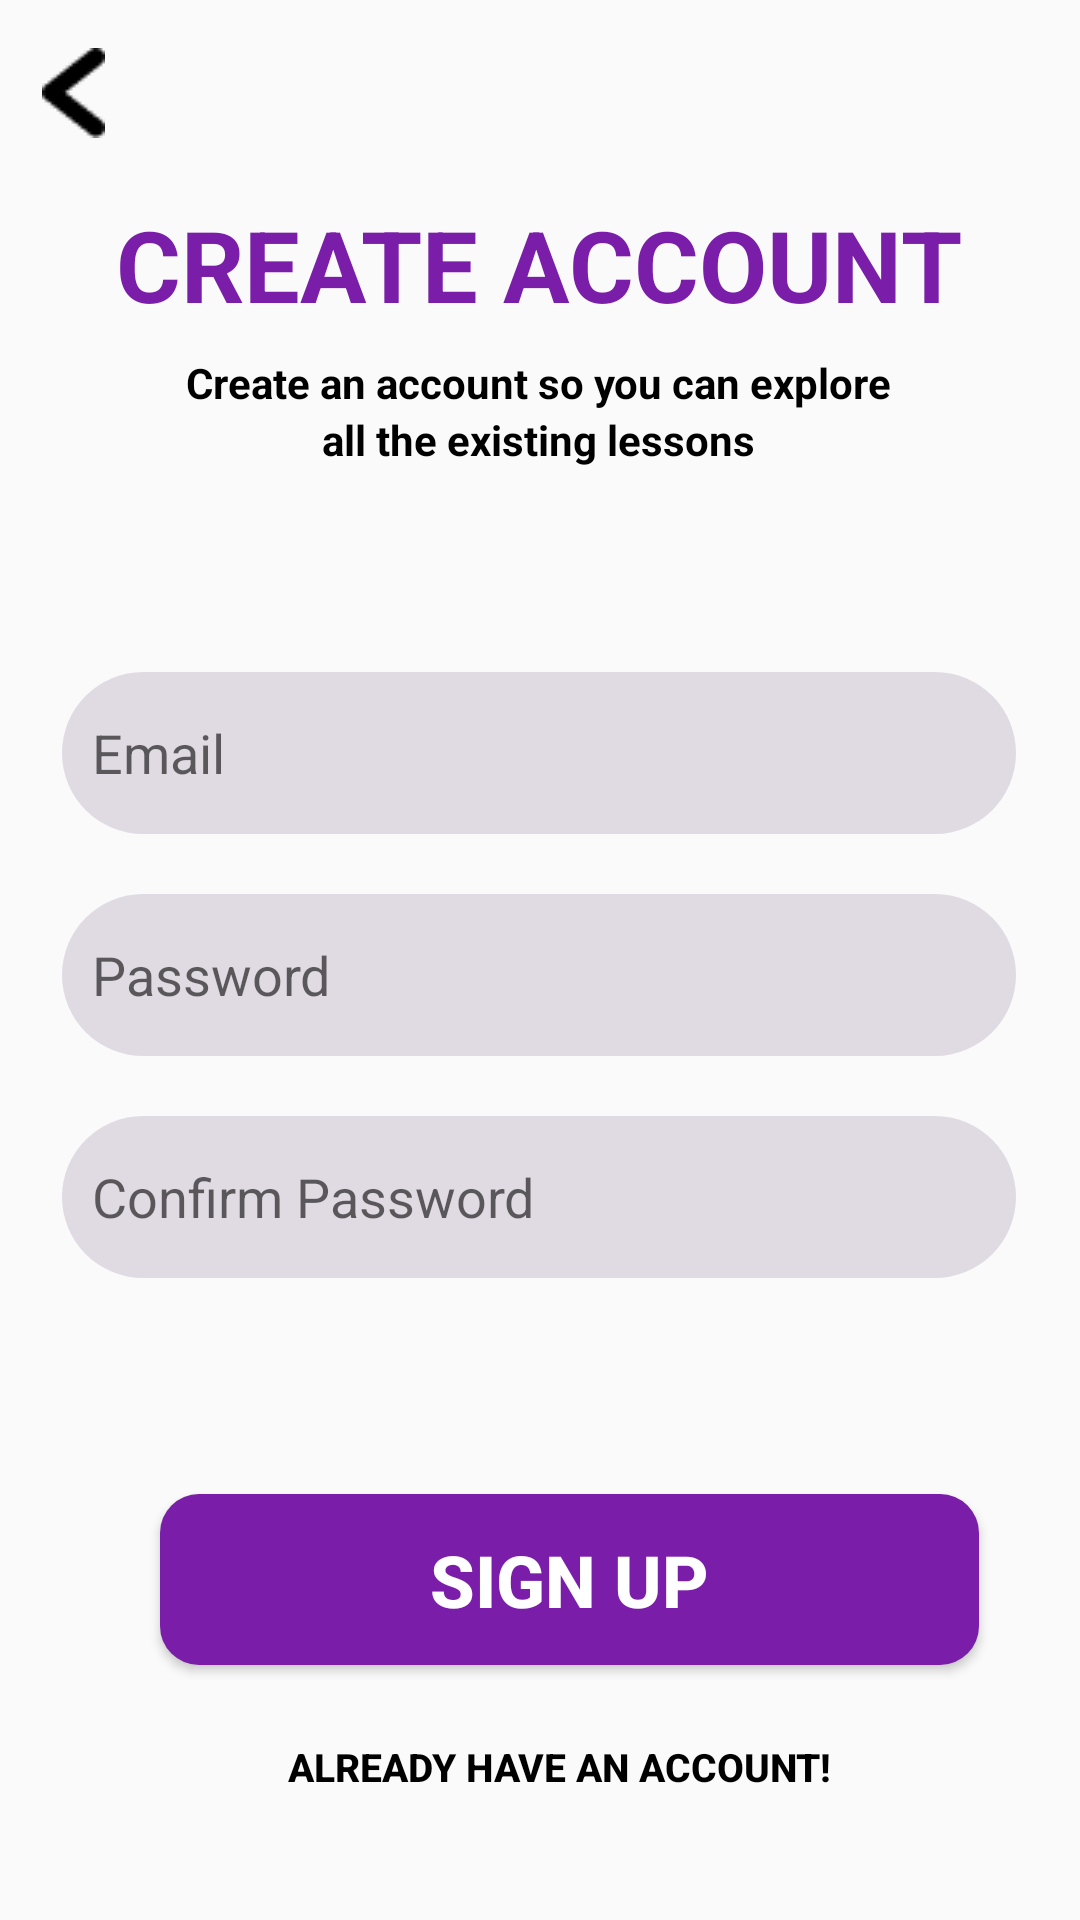

Icons on this 1080 × 1920 Android screen, each with the point to tap as (x,y):
arrow: (73,93)
